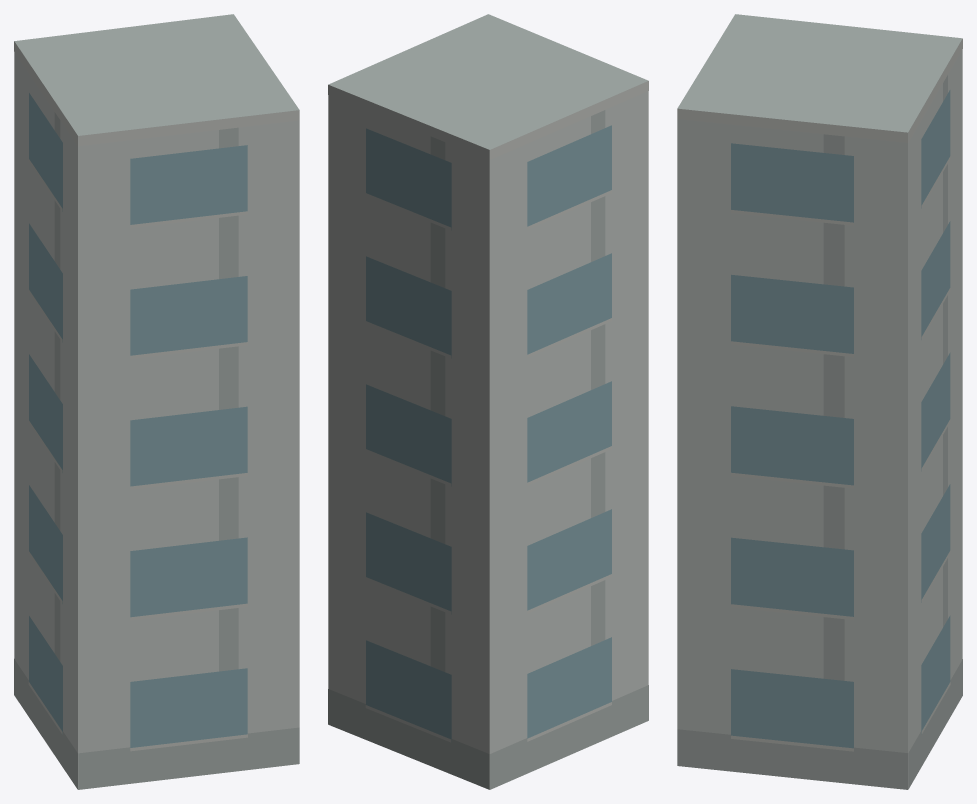
The model's file is survey-upis-32573960.glb.
3 views of the same model, side by side, from view 1: azimuth 30°, elevation 25°; view 2: azimuth 150°, elevation 25°; view 3: azimuth 270°, elevation 25° (orthographic). The views are drawn at different scales.
Visible parts, largest first — view 1: survey-upis-32573960.tmp; view 2: survey-upis-32573960.tmp; view 3: survey-upis-32573960.tmp.
Part boxes in pixels (<box>): survey-upis-32573960.tmp: <box>14,14,299,789</box>; survey-upis-32573960.tmp: <box>328,14,648,789</box>; survey-upis-32573960.tmp: <box>677,14,962,789</box>.
Bounding box in the file's own units: 5.91 × 15.25 × 6.01.
